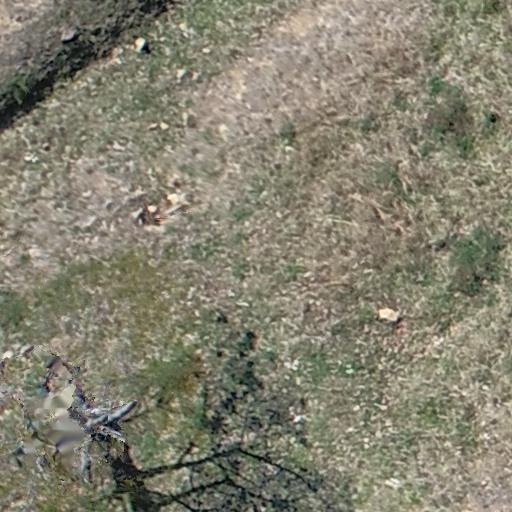stone: (59, 25, 81, 45), (378, 306, 400, 324), (134, 34, 149, 53), (160, 121, 172, 132)
